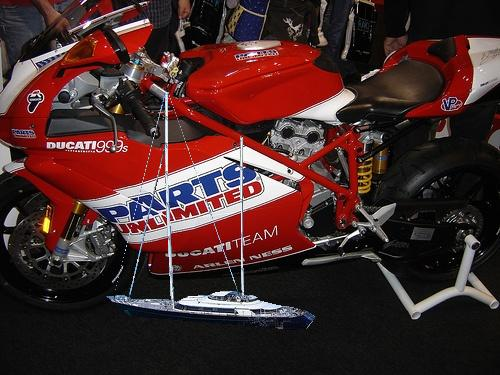tampered: (107, 92, 315, 330)
